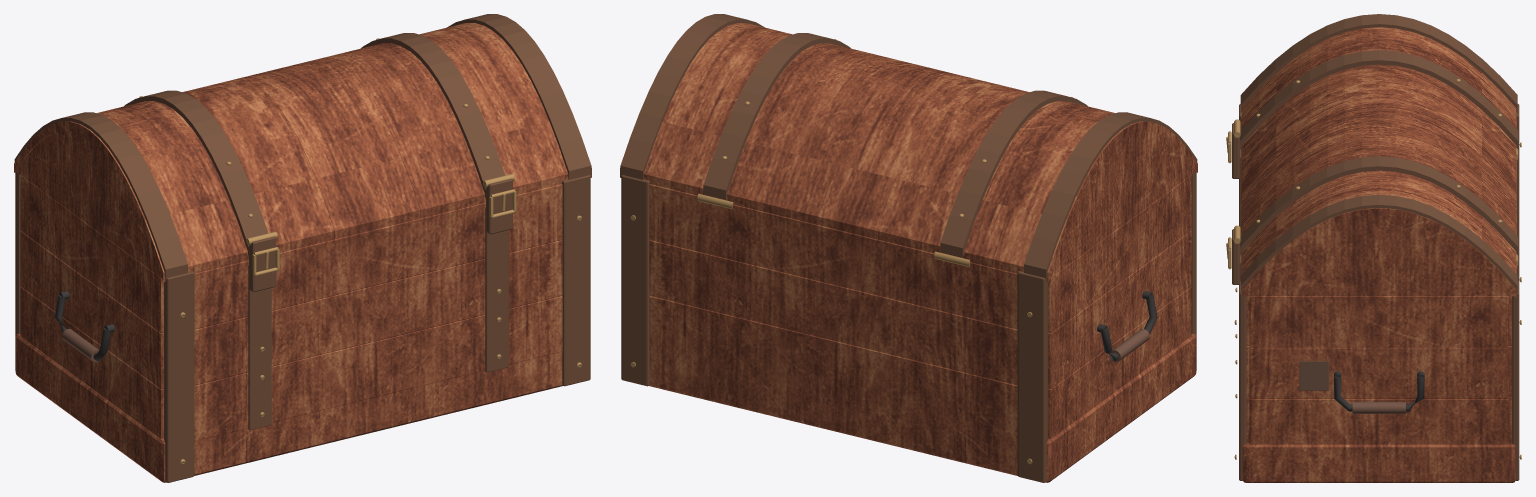
Rendered from ParcelChest.fbx.
The picture shows the model from 3 angles, left to right: view 1: azimuth 30°, elevation 25°; view 2: azimuth 150°, elevation 25°; view 3: azimuth 270°, elevation 25°; orthographic projection. The views are drawn at different scales.
Parts seen in each view (by area): view 1: ParcelBody, ParcelLid, ParcelLeftLatch, ParcelLatch; view 2: ParcelBody, ParcelLid; view 3: ParcelLid, ParcelBody, ParcelTicket, ParcelLeftLatch, ParcelLatch.
Boxes of the visible parts, x1,y1,x2,y2 form: ParcelBody: (15, 172, 590, 482); ParcelLid: (14, 14, 591, 282); ParcelLeftLatch: (246, 231, 279, 291); ParcelLatch: (483, 174, 516, 234); ParcelBody: (621, 172, 1196, 482); ParcelLid: (620, 14, 1197, 282); ParcelLid: (1240, 14, 1518, 297); ParcelBody: (1234, 104, 1521, 482); ParcelTicket: (1299, 361, 1329, 390); ParcelLeftLatch: (1226, 119, 1240, 178); ParcelLatch: (1226, 225, 1240, 284).
Size of the model in its own units: 0.704 by 0.452 by 0.4334.
6 materials, 1 textured.
